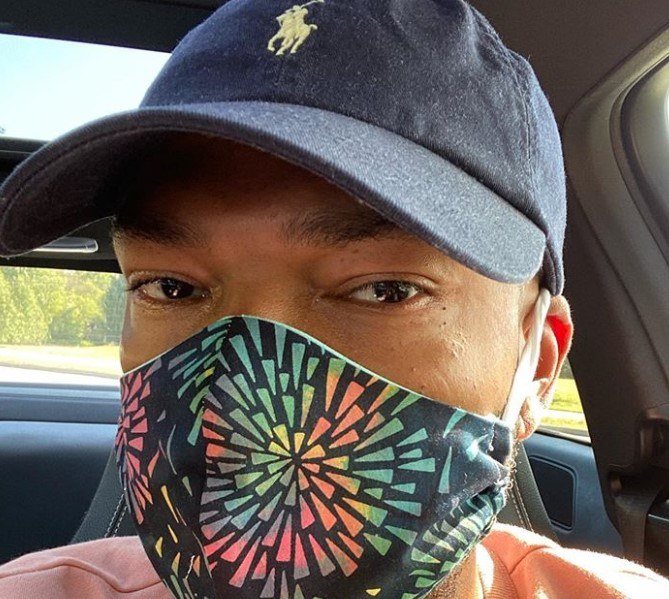face_with_mask: (72, 0, 576, 597)
